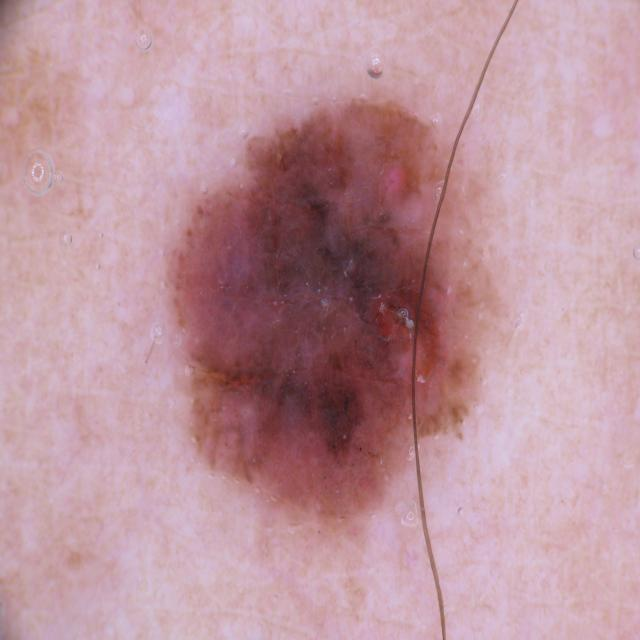Melanoma: (168, 90, 486, 529)
